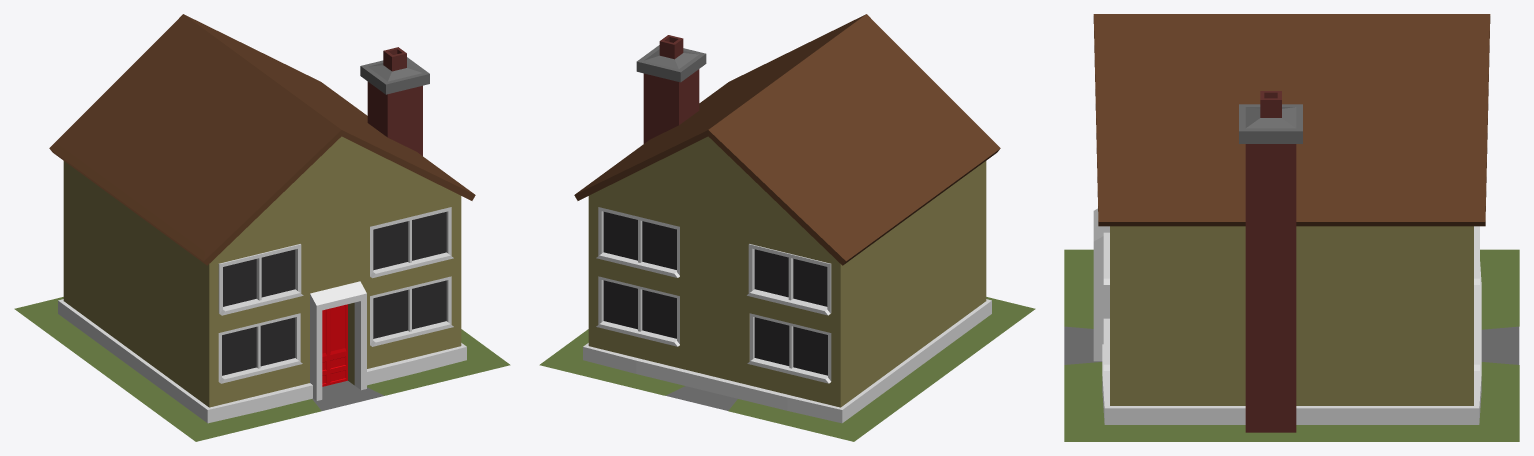
The model's file is Small House 1x1 1.fbx.
3 renders of one model, left to right at view 1: azimuth 30°, elevation 25°; view 2: azimuth 150°, elevation 25°; view 3: azimuth 270°, elevation 25°, orthographic. The views are drawn at different scales.
Visible parts, largest first — view 1: Small House 1x1; view 2: Small House 1x1; view 3: Small House 1x1.
Part boxes in pixels (x1=…): Small House 1x1: x1=14, y1=14, x2=510, y2=441; Small House 1x1: x1=539, y1=14, x2=1035, y2=441; Small House 1x1: x1=1064, y1=14, x2=1519, y2=441.
Bounding box in the file's own units: 1 × 0.8041 × 1.
